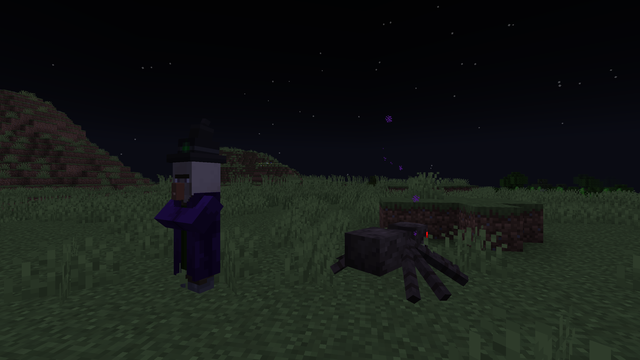araignees: (351, 215, 453, 296)
sorcieres: (164, 155, 225, 296)
